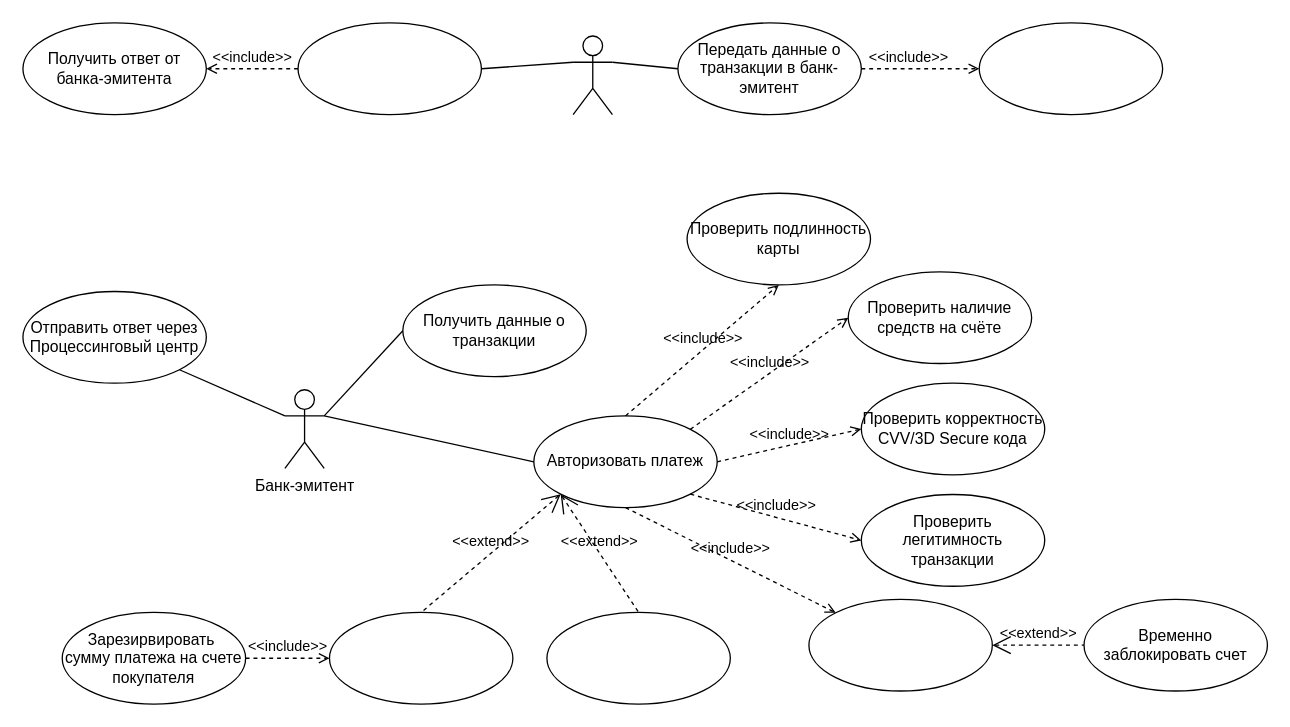
The diagram is 1290 pixels wide and 727 high, and some of its shapes have lost their labels. Each missing label, with the box of its shape:
Идентифицировать банк-эмитент: (978, 22, 1163, 115)
Отклонить транзакцию: (546, 611, 730, 704)
Отправить ответ по результатам авторизации платежа: (297, 22, 481, 115)
Проверить риски мошенничества: (808, 598, 992, 691)
Проставить отметку об авторизации: (328, 611, 513, 704)
Процессинговый центр: (572, 35, 612, 115)
